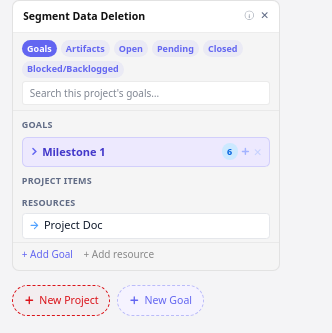
Test: ProjectGoals — project aggregate views › Pending tab shows In Progress items
Click the button "Pending" at (175, 48), box [152,40,199,57]
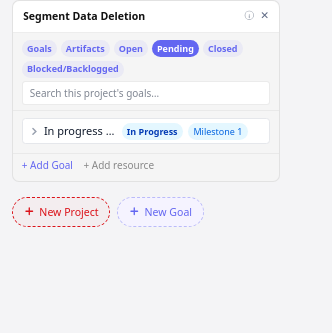
Expected: the text "In progress task" is shown, [44,123,116,140]
